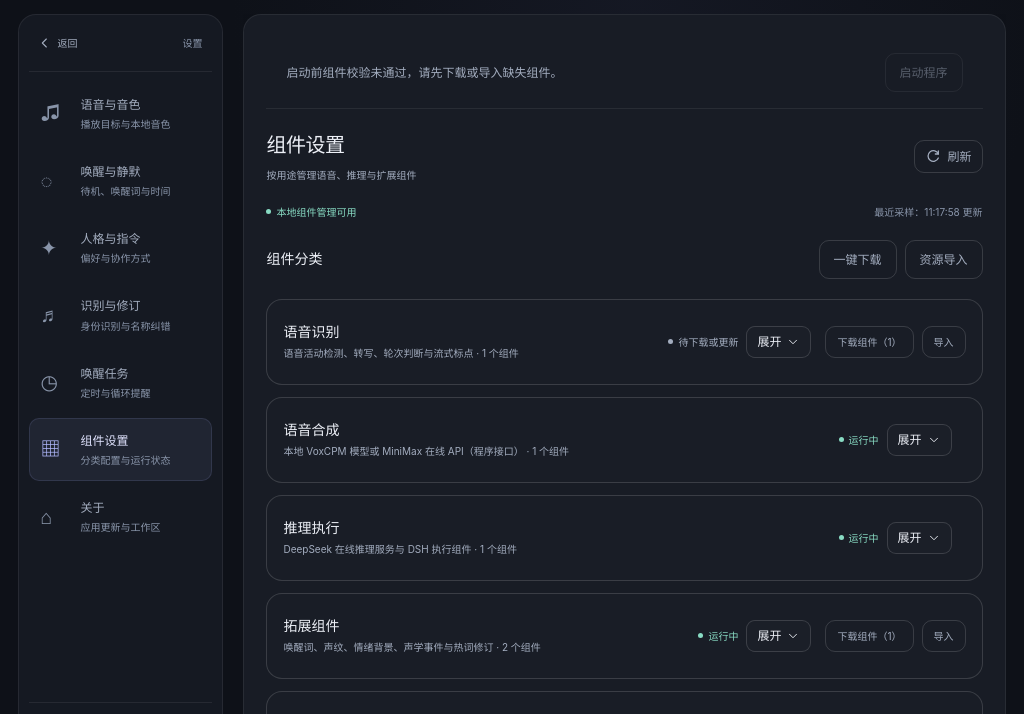
ManagementApp（组件管理）启动校验与并行配置 › 组件不完整时保持管理页，返回操作也不能启动服务
Expected: the element with class "management-start" shows "请先下载或导入缺失组件", [286,64,562,80]
Expected: the button with class "start-program" is disabled, [884,53,962,92]
Click the button with aria-label "返回工作台".
click(59, 43)  # box [31,27,86,59]
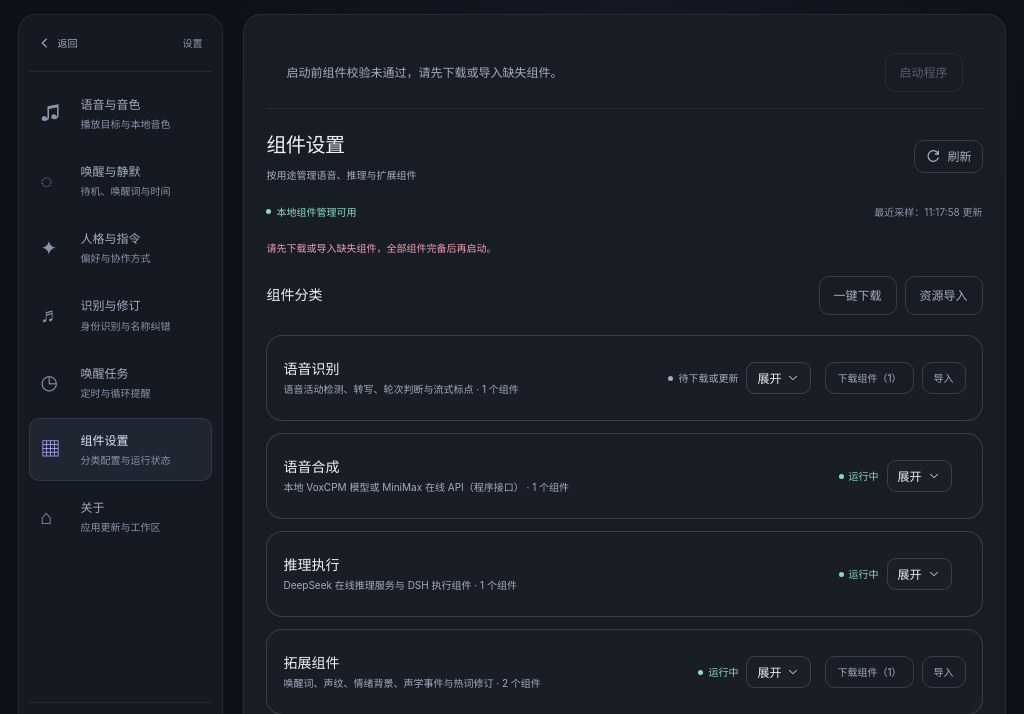
Now the text "全部组件完备后再启动" is shown, box [266,242,496,254]
